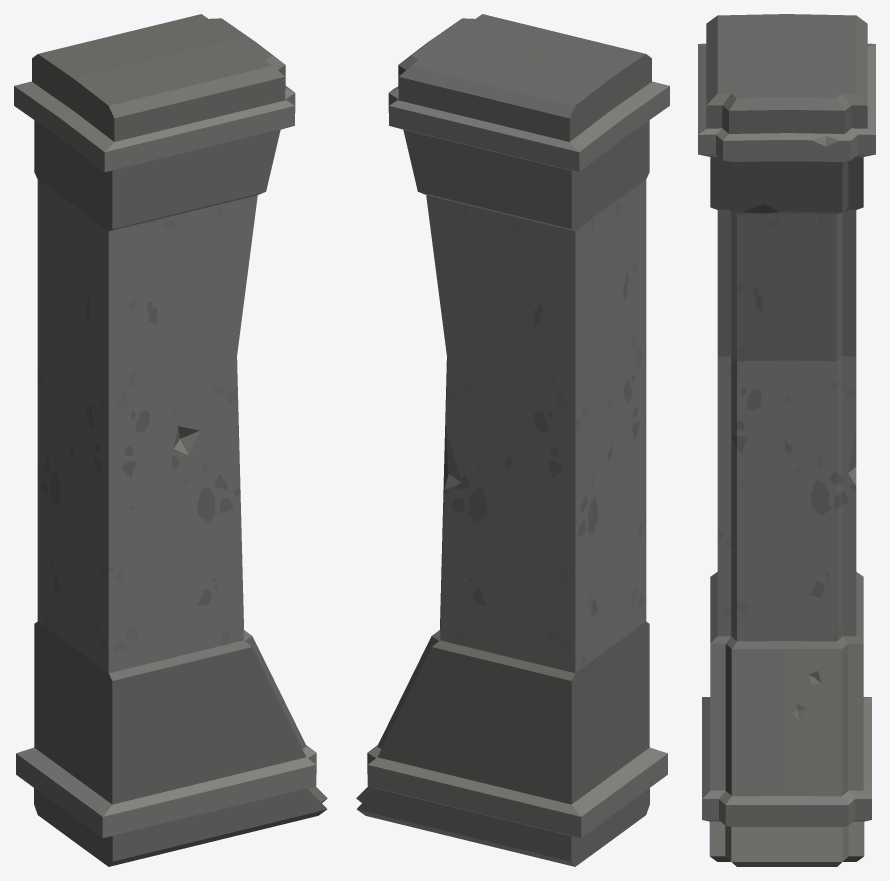
The model's file is SM_Bld_Tunnel_Curved_Pillar_01.fbx.
3 renders of one model, left to right at view 1: azimuth 30°, elevation 25°; view 2: azimuth 150°, elevation 25°; view 3: azimuth 270°, elevation 25°, orthographic. The views are drawn at different scales.
Visible parts, largest first — view 1: SM_Bld_Tunnel_Curved_Pillar_01; view 2: SM_Bld_Tunnel_Curved_Pillar_01; view 3: SM_Bld_Tunnel_Curved_Pillar_01.
Part boxes in pixels (left/top/right/bottom): SM_Bld_Tunnel_Curved_Pillar_01: left=14, top=14, right=327, bottom=866; SM_Bld_Tunnel_Curved_Pillar_01: left=356, top=14, right=669, bottom=866; SM_Bld_Tunnel_Curved_Pillar_01: left=698, top=14, right=875, bottom=866.
Size of the model in its own units: 99.06 by 301 by 64.8.
